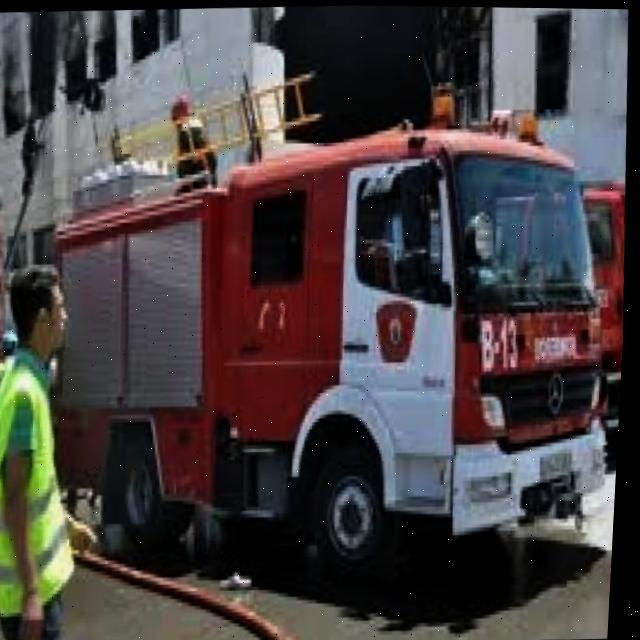emergency: (26, 70, 618, 577)
